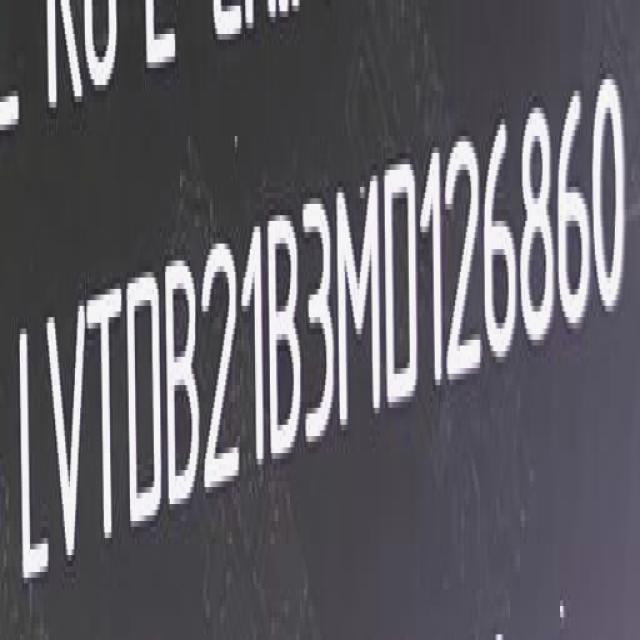0: (593, 70, 630, 320)
1: (419, 145, 444, 401), (243, 227, 266, 479)
2: (446, 139, 485, 382), (206, 254, 244, 496)
3: (304, 193, 338, 444)
6: (483, 120, 523, 364), (554, 81, 592, 333)
8: (520, 105, 557, 347)
B: (168, 260, 205, 509), (268, 216, 304, 465)
D: (125, 273, 163, 532), (386, 160, 423, 412)
L: (13, 318, 49, 594)
M: (340, 170, 386, 429)
T: (89, 284, 125, 560)
V: (44, 299, 86, 573)
